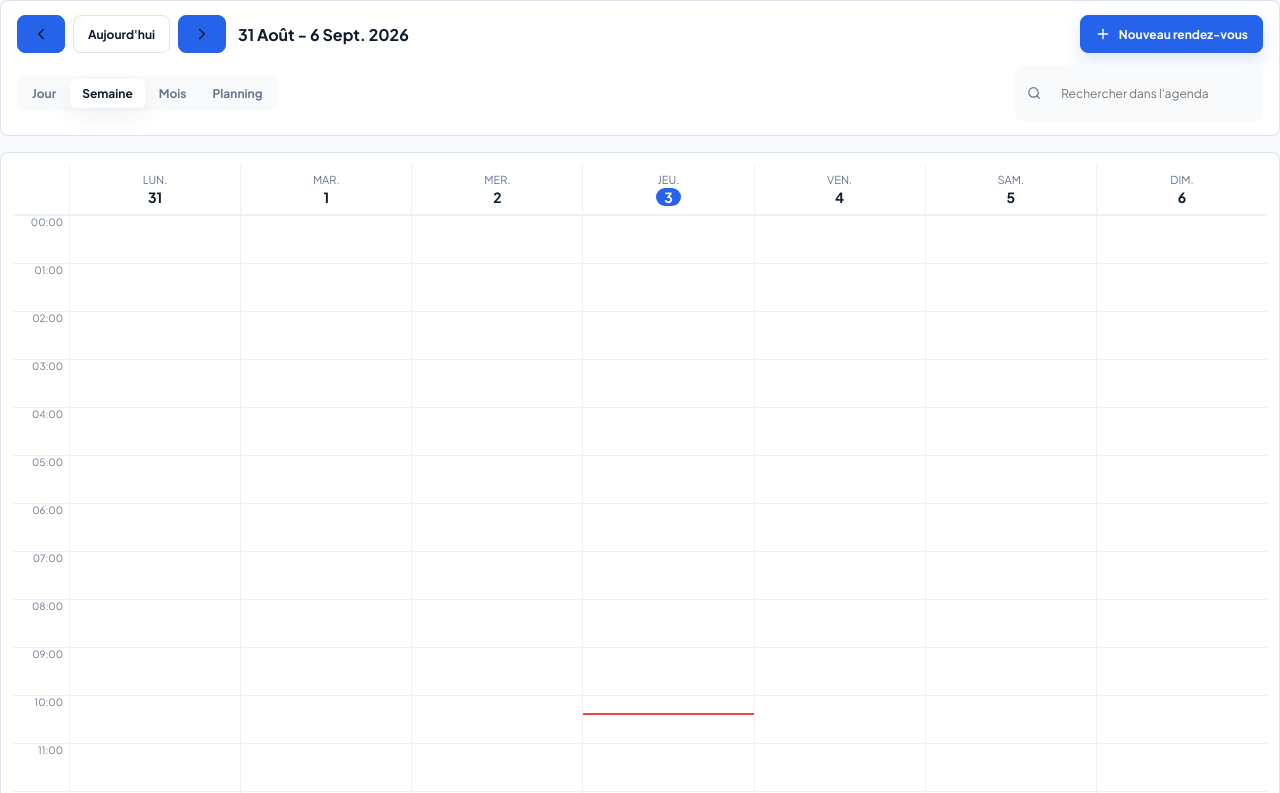
it: CalendarPage event creation errors › closes the form and refetches events when creation succeeds
Click the button "Nouveau rendez-vous": (1171, 34) [1080, 15, 1263, 53]
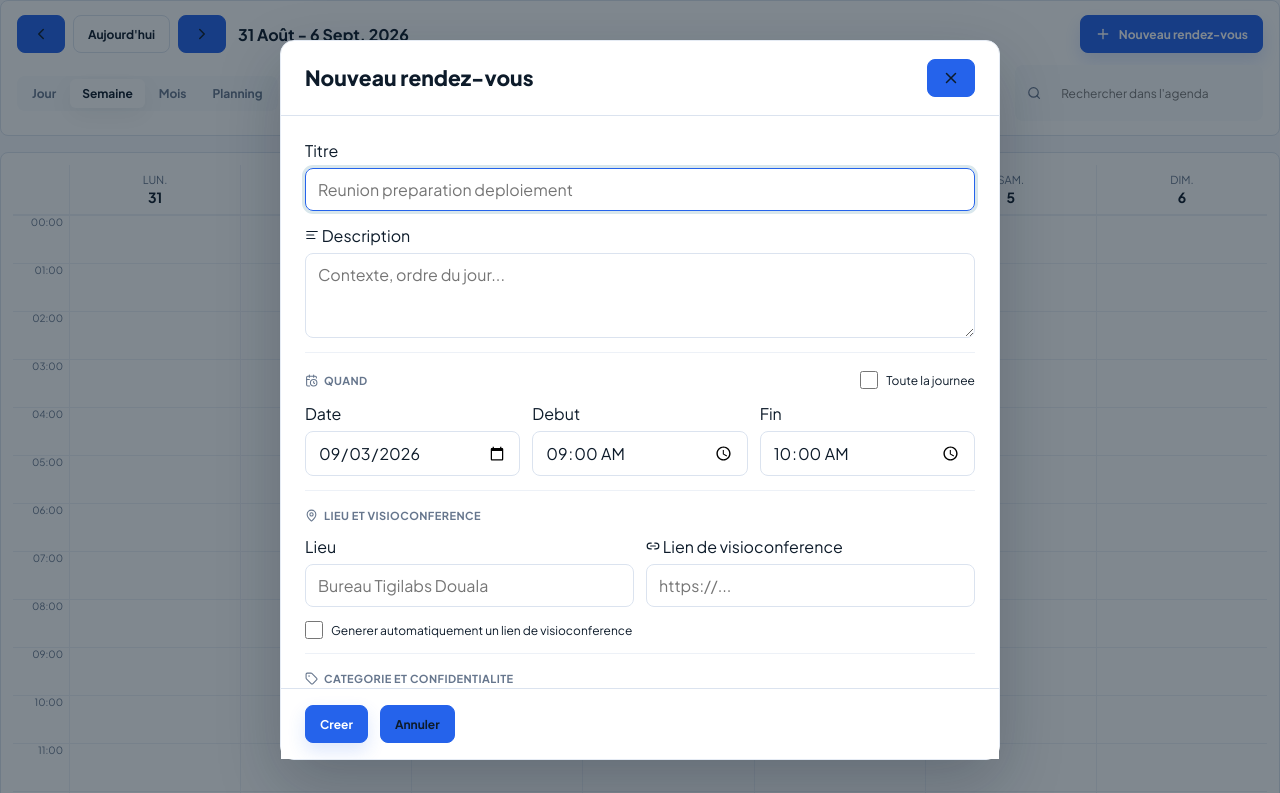
In the field with placeholder "Reunion preparation deploiement": (640, 190) [305, 168, 975, 211], type "Point client"
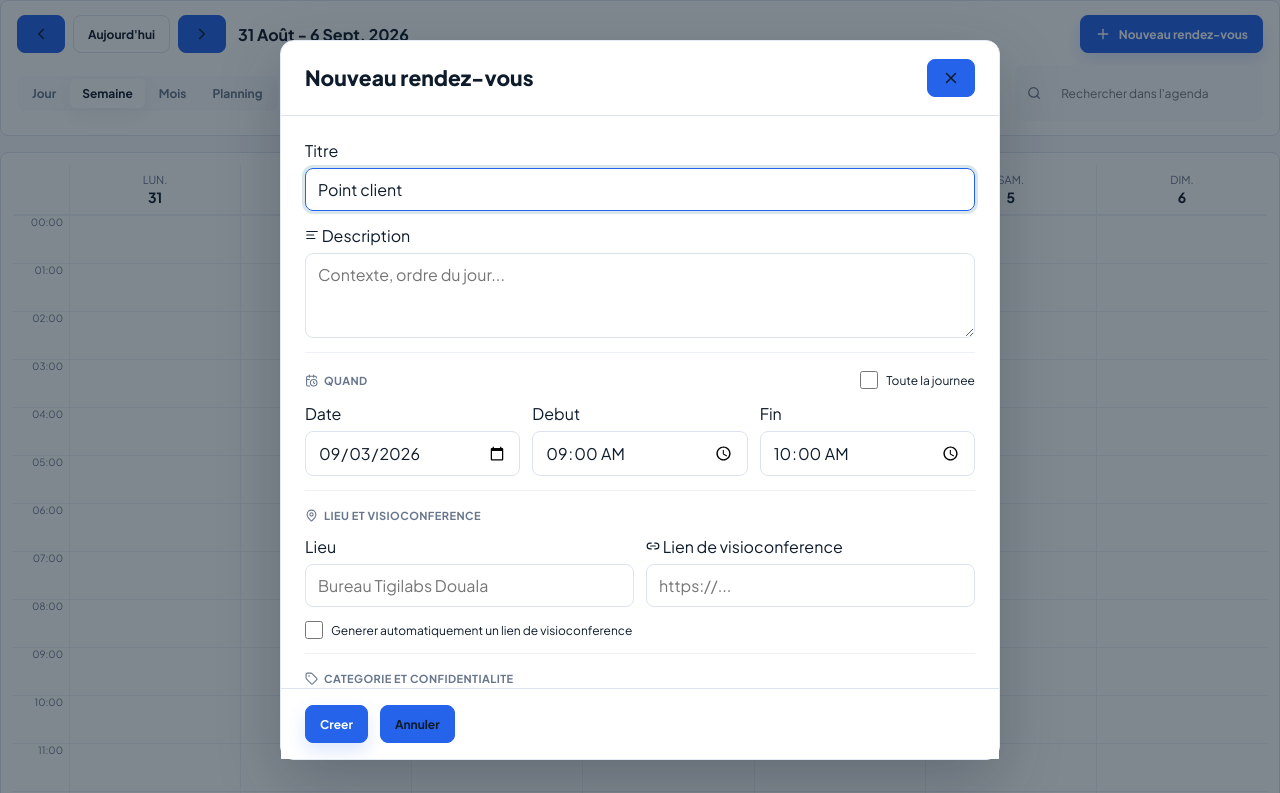
Click the button "Creer": (336, 724) [305, 705, 368, 743]
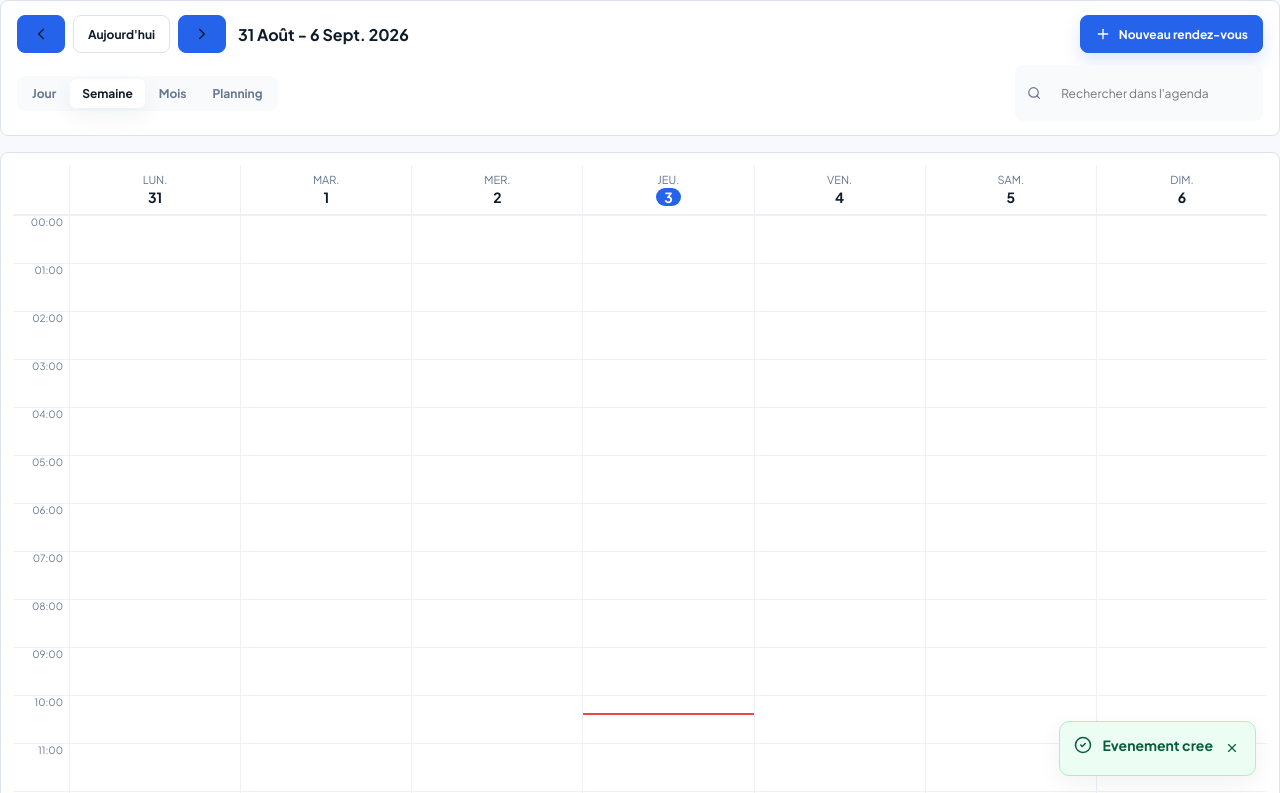
Now the text "Evenement cree" is shown, box [1102, 736, 1213, 754]
